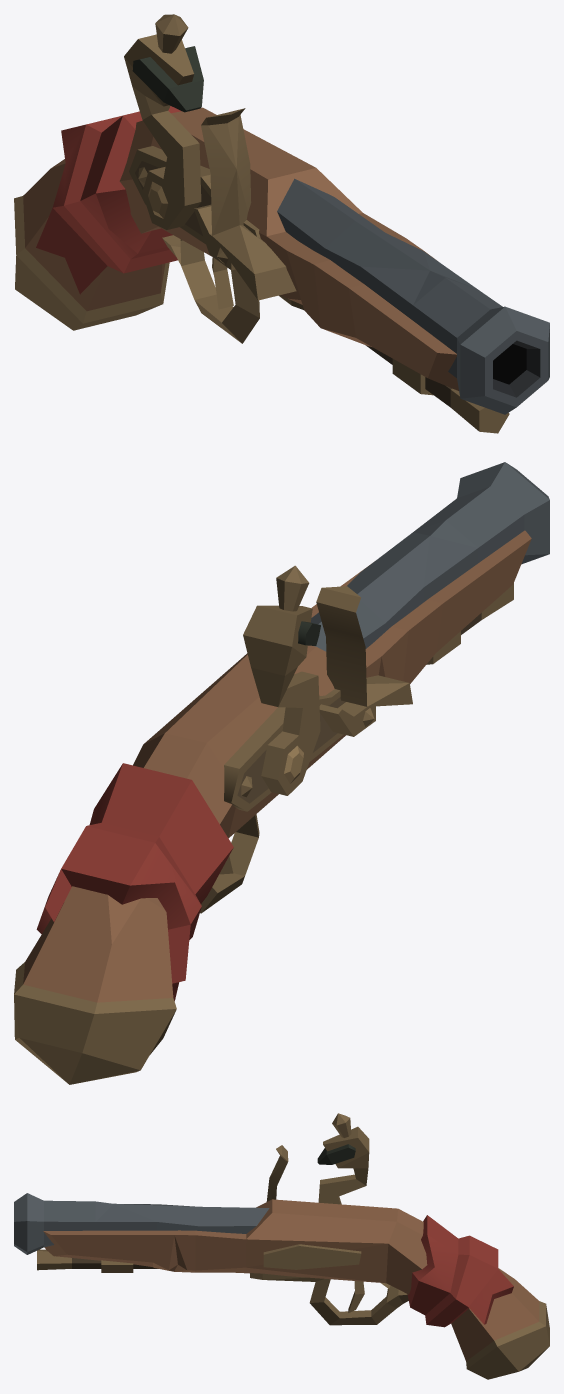
Rendered from SM_Wep_Pistol_04.fbx.
3 views of the same model, one above another, from view 1: azimuth 30°, elevation 25°; view 2: azimuth 150°, elevation 25°; view 3: azimuth 270°, elevation 25° (orthographic). The views are drawn at different scales.
Parts seen in each view (by area): view 1: SM_Wep_Pistol_04; view 2: SM_Wep_Pistol_04; view 3: SM_Wep_Pistol_04.
Part boxes in pixels (bbox=[...]): SM_Wep_Pistol_04: bbox=[14, 14, 549, 433]; SM_Wep_Pistol_04: bbox=[14, 462, 549, 1084]; SM_Wep_Pistol_04: bbox=[14, 1113, 549, 1379].
Bounding box in the file's own units: 10.48 × 25.16 × 50.75.
